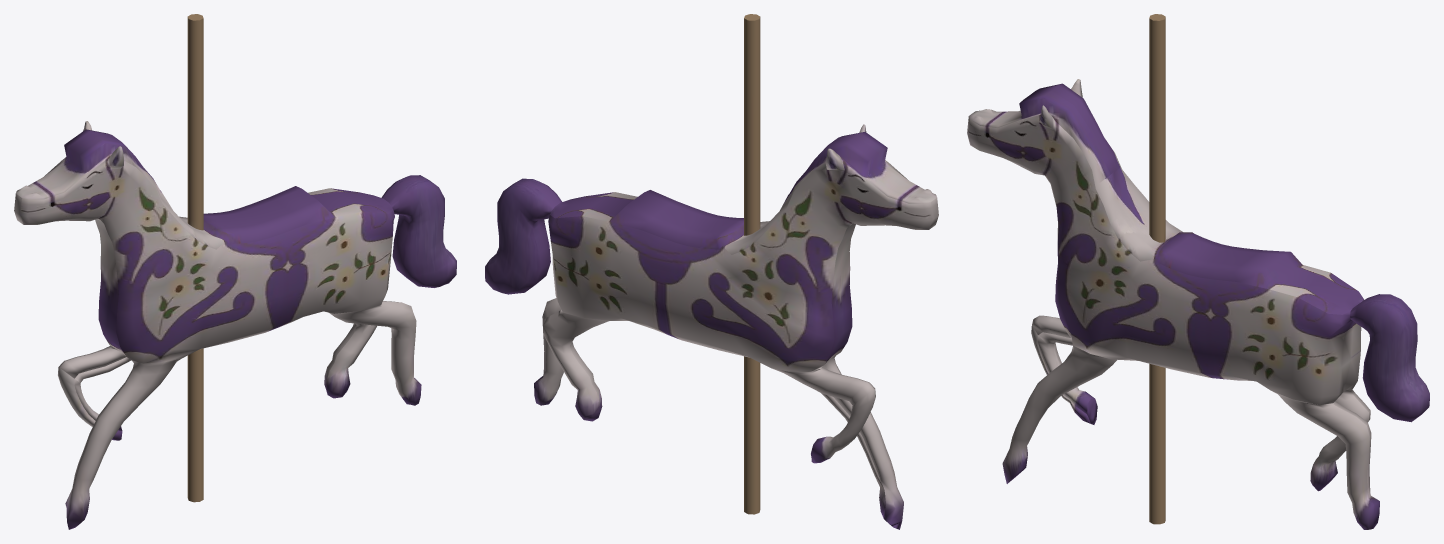
Rendered from horse.glb.
3 views of the same model, side by side, from view 1: azimuth 30°, elevation 25°; view 2: azimuth 150°, elevation 25°; view 3: azimuth 330°, elevation 25° (orthographic). The views are drawn at different scales.
Parts seen in each view (by area): view 1: Horse_HIGH_lambert1_0; view 2: Horse_HIGH_lambert1_0; view 3: Horse_HIGH_lambert1_0.
Boxes of the visible parts, x1=… form: Horse_HIGH_lambert1_0: x1=14, y1=14, x2=456, y2=529; Horse_HIGH_lambert1_0: x1=485, y1=14, x2=938, y2=529; Horse_HIGH_lambert1_0: x1=967, y1=14, x2=1429, y2=529.
Bounding box in the file's own units: 1.51 × 1.6 × 0.2531.
Materials: 1 (1 with a texture image).
